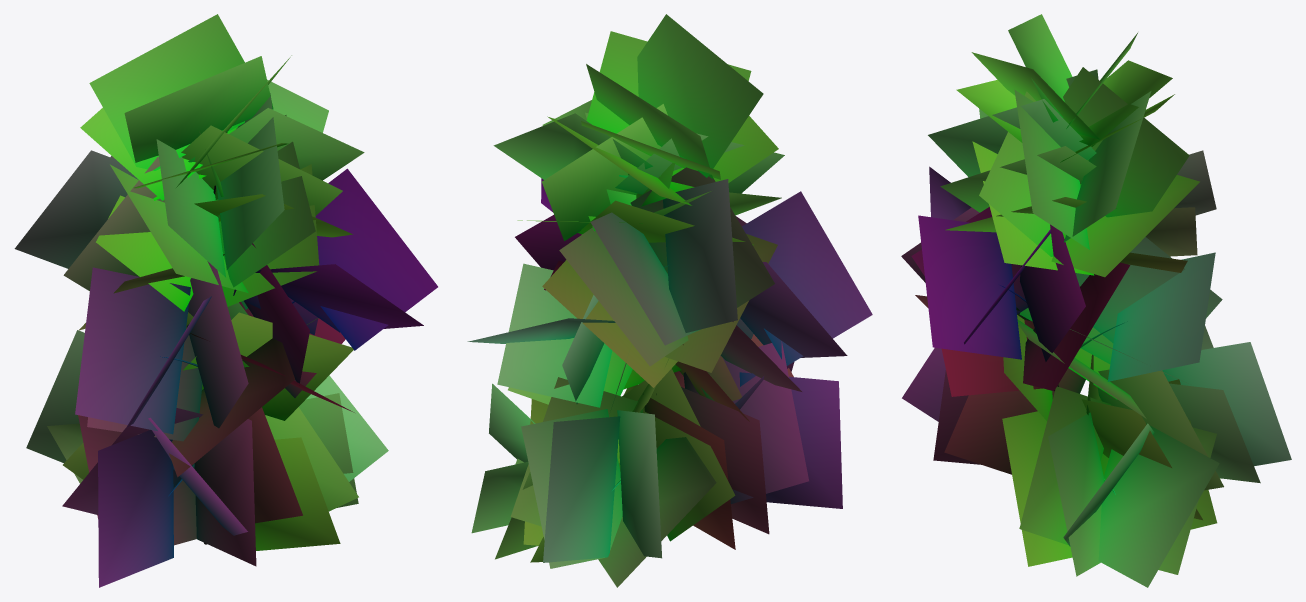
Rendered from M_P15_Tree_9.fbx.
3 renders of one model, left to right at view 1: azimuth 30°, elevation 25°; view 2: azimuth 150°, elevation 25°; view 3: azimuth 270°, elevation 25°, orthographic. The views are drawn at different scales.
Parts seen in each view (by area): view 1: Tree_9; view 2: Tree_9; view 3: Tree_9.
Part boxes in pixels (left/top/right/bottom): Tree_9: left=14, top=14, right=437, bottom=587; Tree_9: left=467, top=14, right=872, bottom=587; Tree_9: left=901, top=14, right=1291, bottom=587.
Bounding box in the file's own units: 498 × 744 × 513.
